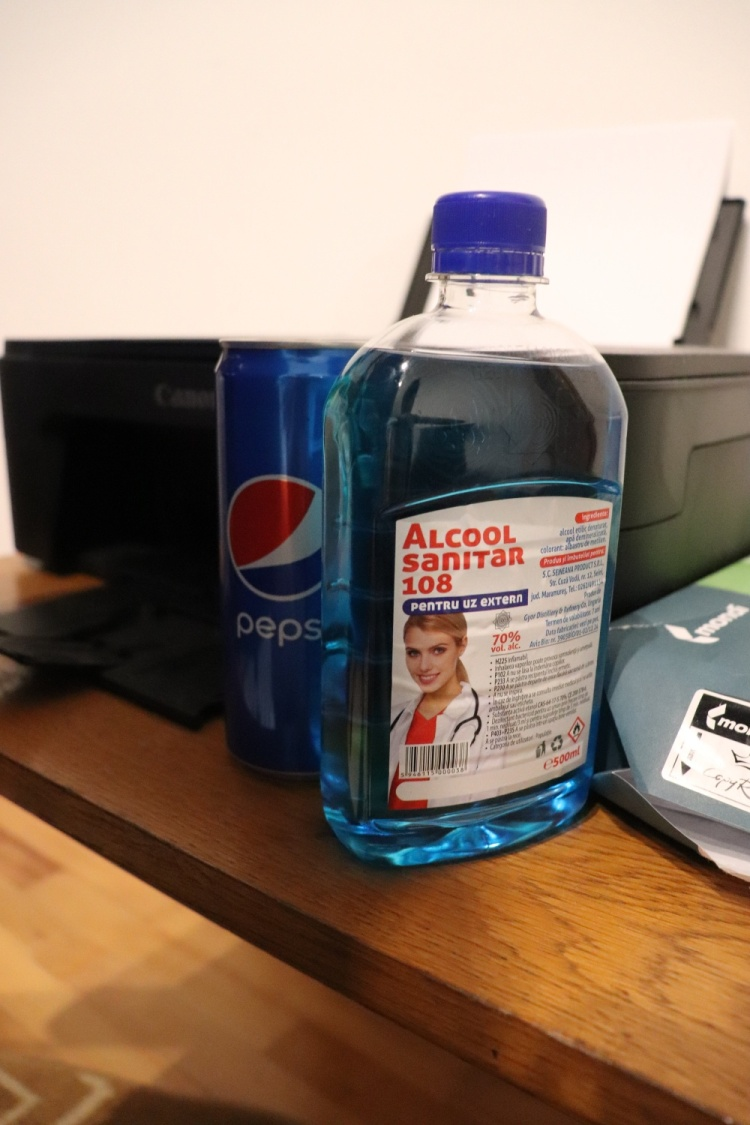pepsi: (203, 331, 324, 789)
